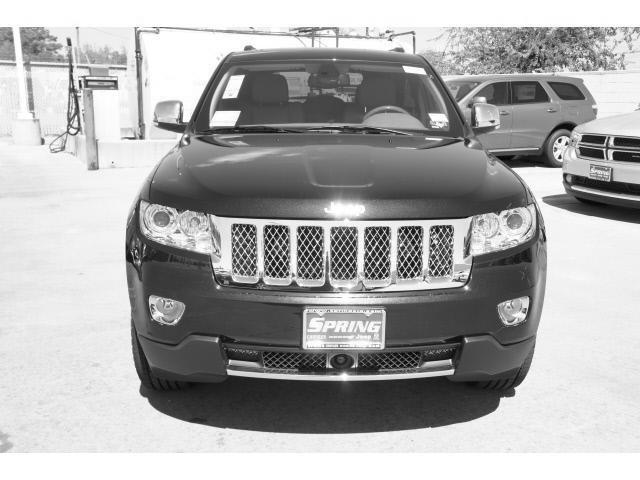car: (125, 47, 551, 393)
